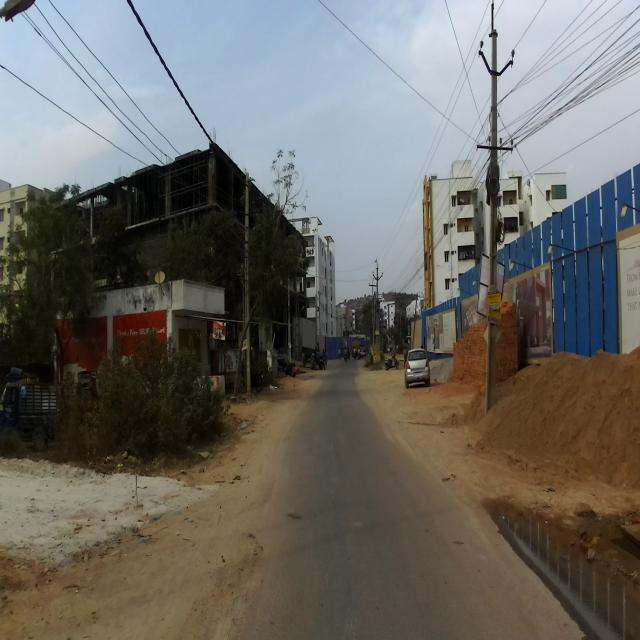electric pole ahead at: (472, 8, 520, 404)
